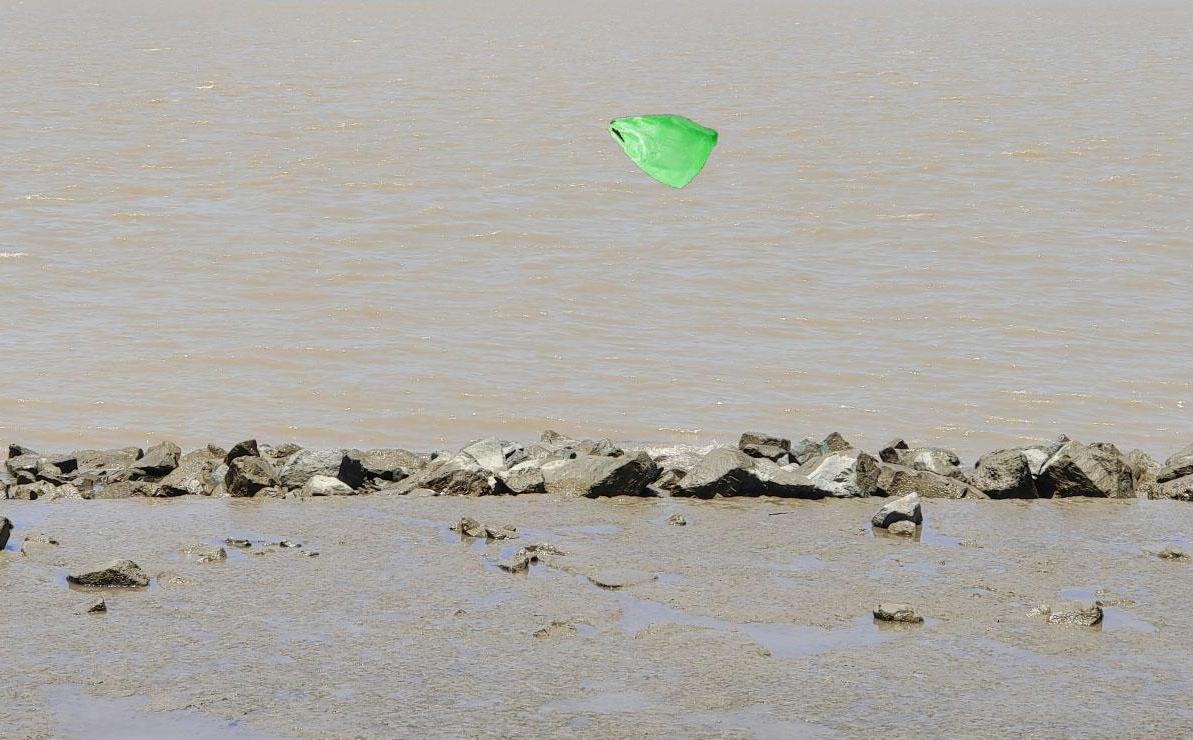Trash: (603, 108, 723, 189)
